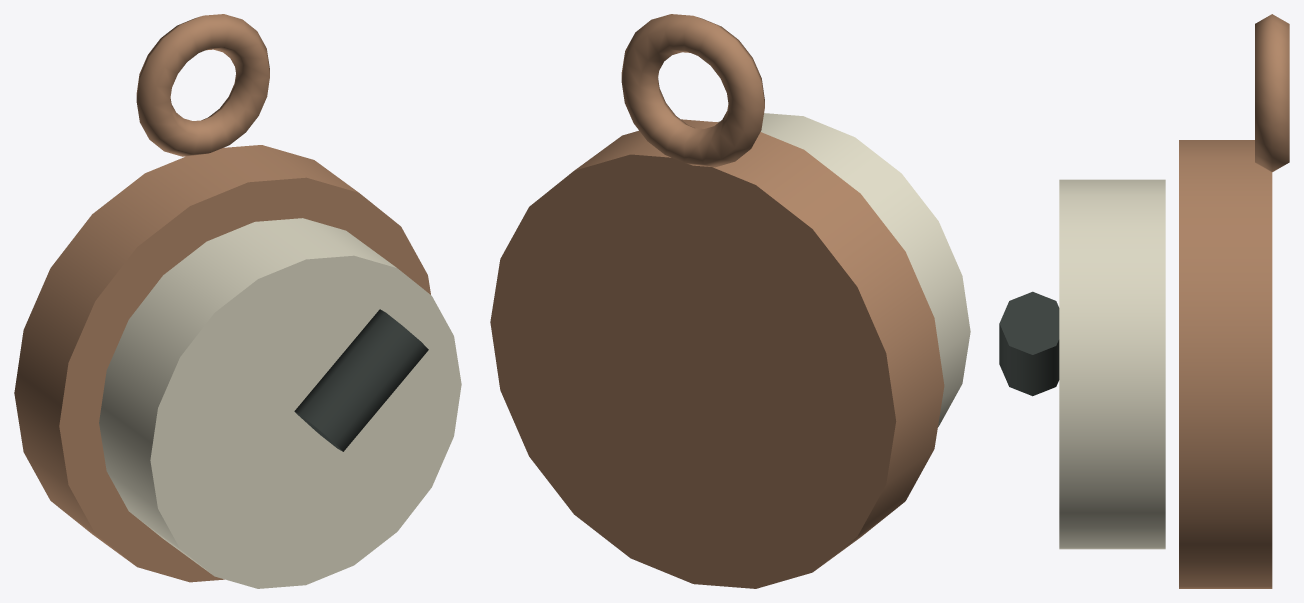
Rendered from scavengers-loot-library-pocket-watch-d1ab84e1__2634.glb.
3 views of the same model, side by side, from view 1: azimuth 30°, elevation 25°; view 2: azimuth 150°, elevation 25°; view 3: azimuth 270°, elevation 25° (orthographic). The views are drawn at different scales.
Parts seen in each view (by area): view 1: pocket-watch; view 2: pocket-watch; view 3: pocket-watch.
Part boxes in pixels (x1,y1,x2,y2): pocket-watch: [14, 14, 461, 588]; pocket-watch: [490, 14, 970, 588]; pocket-watch: [999, 14, 1289, 588].
Bounding box in the file's own units: 0.068 × 0.091 × 0.0436.
